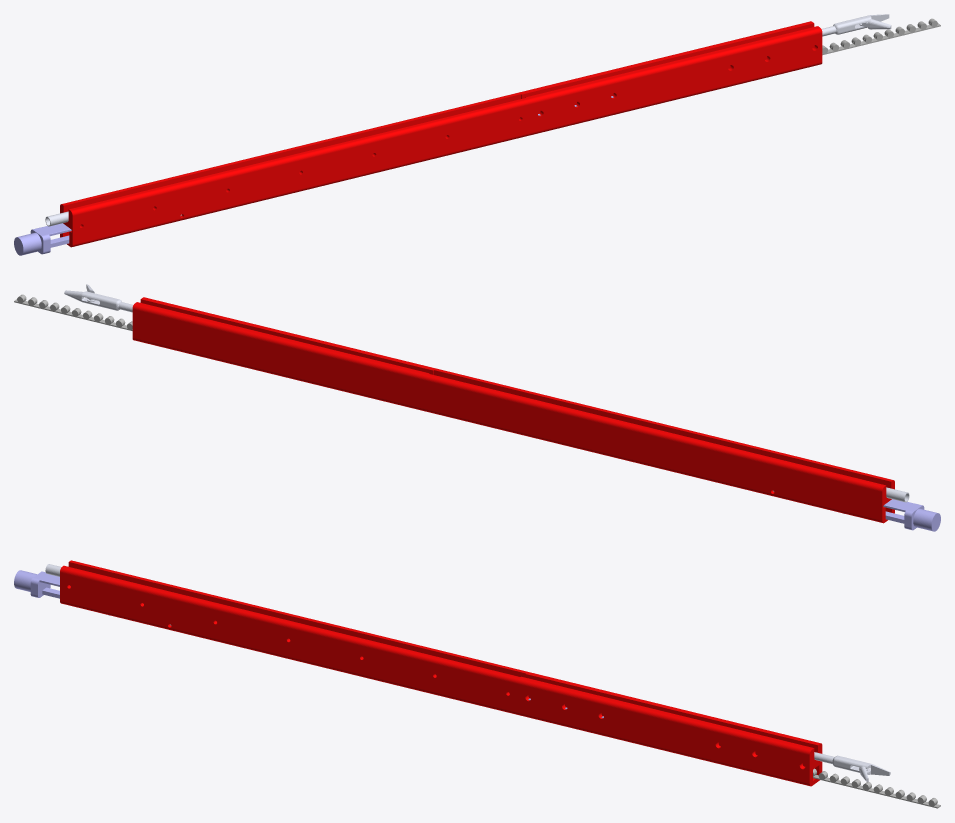
Rendered from microkiap v4 (rest position) (HEAD ONLY, JAW OPEN).fbx.
3 renders of one model, top to bottom at view 1: azimuth 30°, elevation 25°; view 2: azimuth 150°, elevation 25°; view 3: azimuth 330°, elevation 25°, orthographic.
Parts seen in each view (by area): view 1: imagetostl_mesh2, imagetostl_mesh4, imagetostl_mesh1, imagetostl_mesh0; view 2: imagetostl_mesh2, imagetostl_mesh4, imagetostl_mesh1, imagetostl_mesh0; view 3: imagetostl_mesh2, imagetostl_mesh1, imagetostl_mesh4, imagetostl_mesh0.
Part boxes in pixels (bbox=[...]): imagetostl_mesh2: bbox=[60, 21, 822, 247]; imagetostl_mesh4: bbox=[14, 96, 613, 255]; imagetostl_mesh1: bbox=[45, 14, 891, 226]; imagetostl_mesh0: bbox=[822, 18, 940, 55]; imagetostl_mesh2: bbox=[132, 297, 894, 523]; imagetostl_mesh4: bbox=[843, 499, 940, 531]; imagetostl_mesh1: bbox=[64, 284, 909, 502]; imagetostl_mesh0: bbox=[14, 294, 132, 330]; imagetostl_mesh2: bbox=[60, 560, 822, 786]; imagetostl_mesh1: bbox=[45, 564, 890, 781]; imagetostl_mesh4: bbox=[14, 570, 603, 718]; imagetostl_mesh0: bbox=[813, 772, 940, 808].
Size of the model in its own units: 25170 by 1050 by 885.
